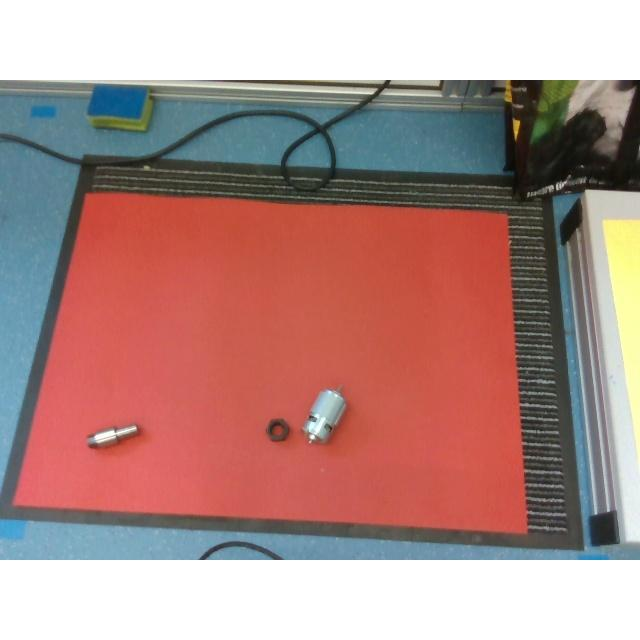Axis2: (86, 422, 138, 446)
M20: (266, 416, 290, 439)
Motor2: (302, 389, 346, 443)
